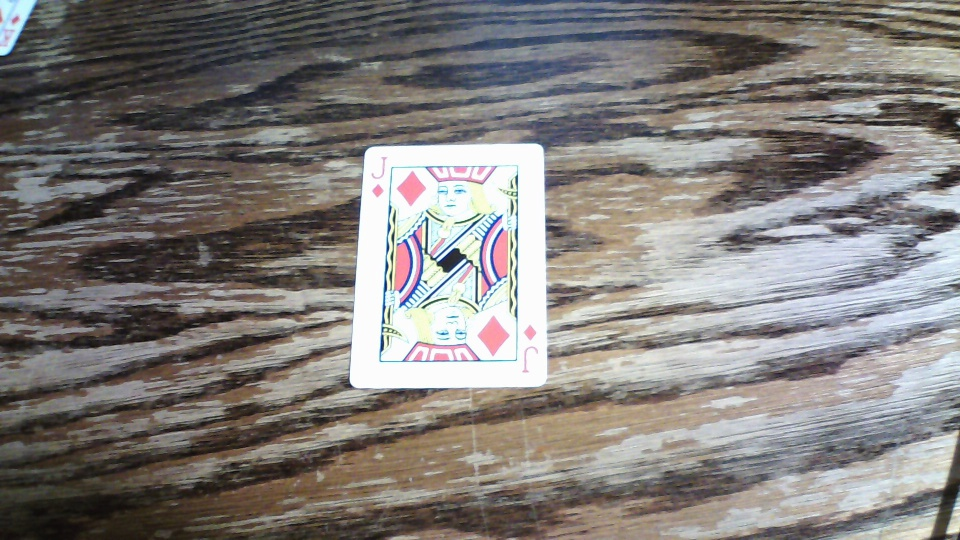jack: (349, 142, 550, 388)
